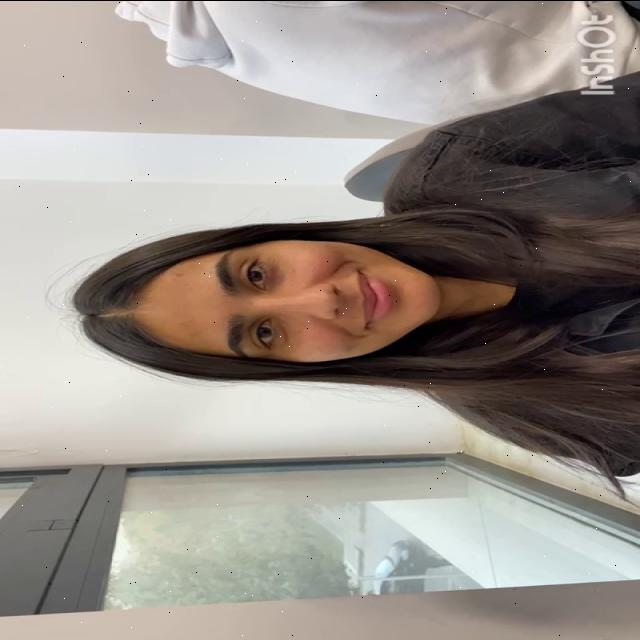happy: (135, 236, 447, 370)
